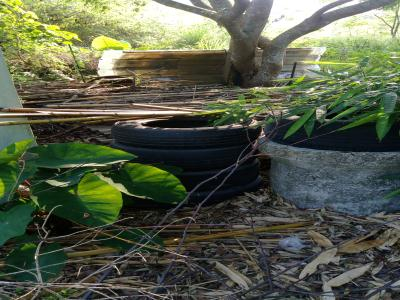tire: (267, 103, 399, 152), (111, 113, 264, 150)
